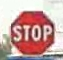stop: (9, 9, 54, 56)
